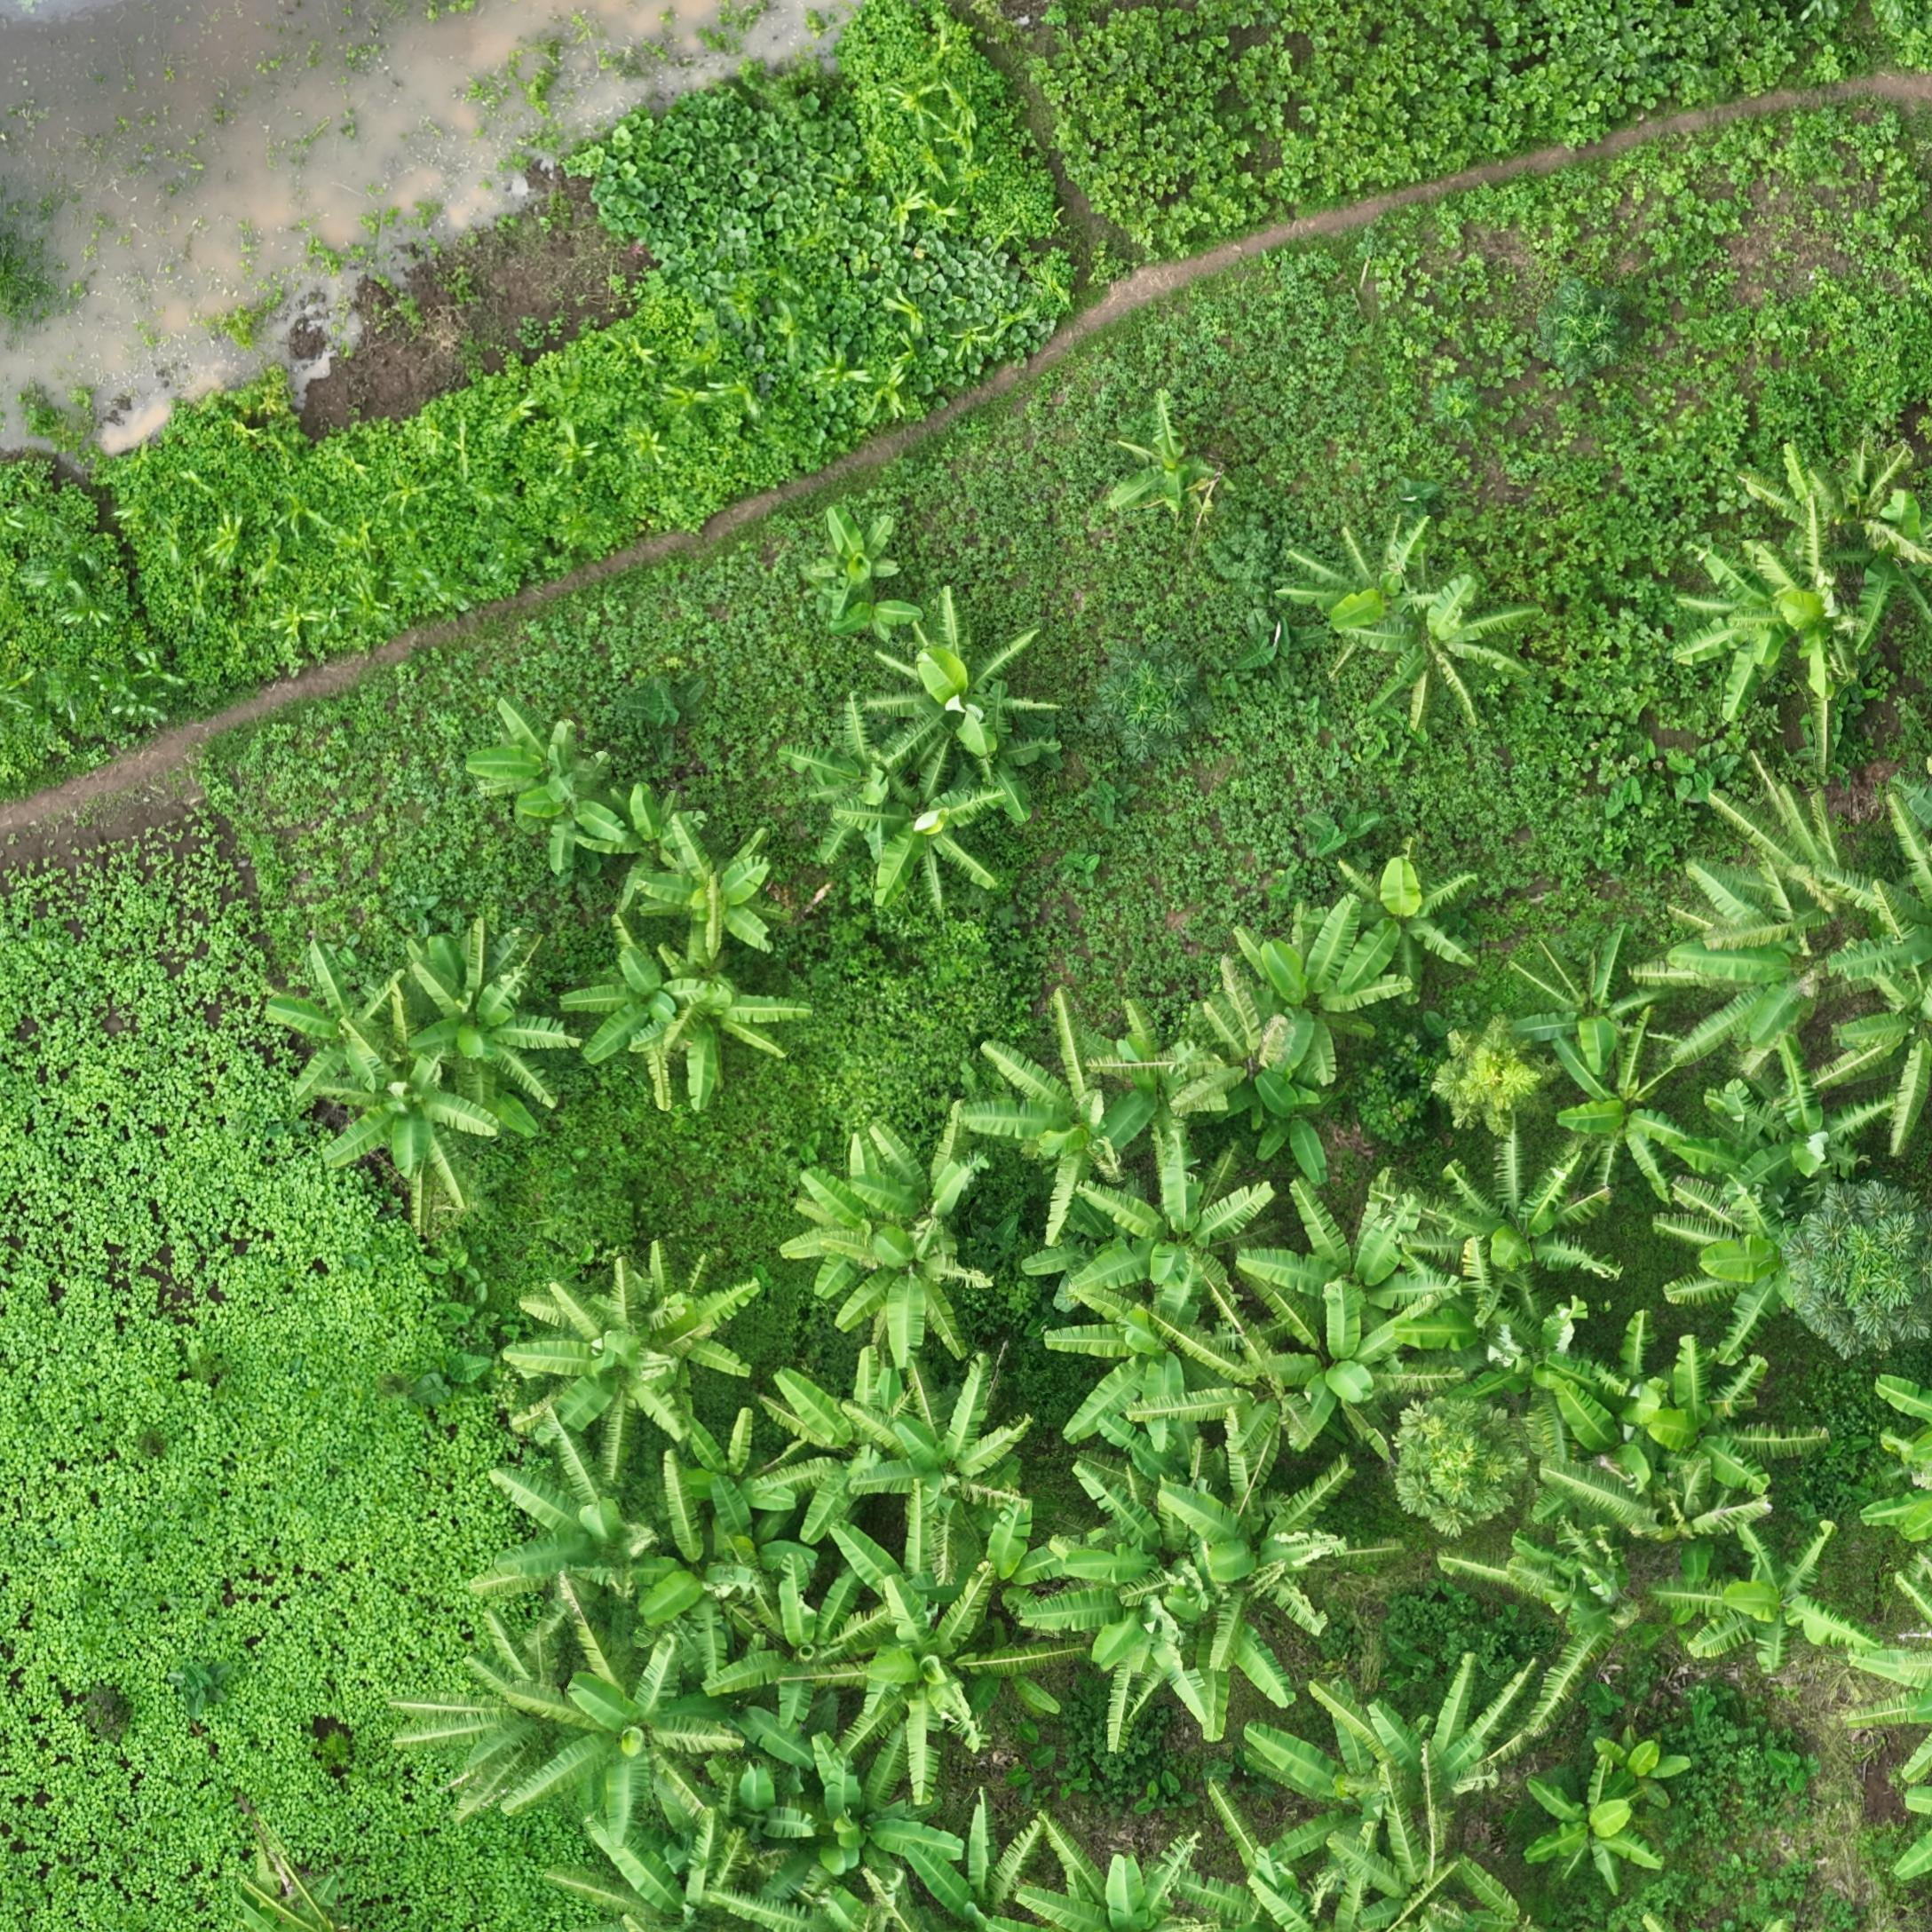Banana: (432, 1675, 640, 1909), (552, 1691, 743, 1893), (1284, 929, 1467, 1139), (881, 1642, 1062, 1851), (879, 633, 1072, 823), (352, 1062, 515, 1253), (276, 970, 425, 1162), (800, 736, 971, 885), (1341, 534, 1490, 678), (885, 1263, 1028, 1410), (1146, 410, 1283, 554), (1815, 1601, 1890, 1709), (1415, 899, 1484, 1000), (1453, 619, 1516, 715), (1192, 442, 1238, 538)
